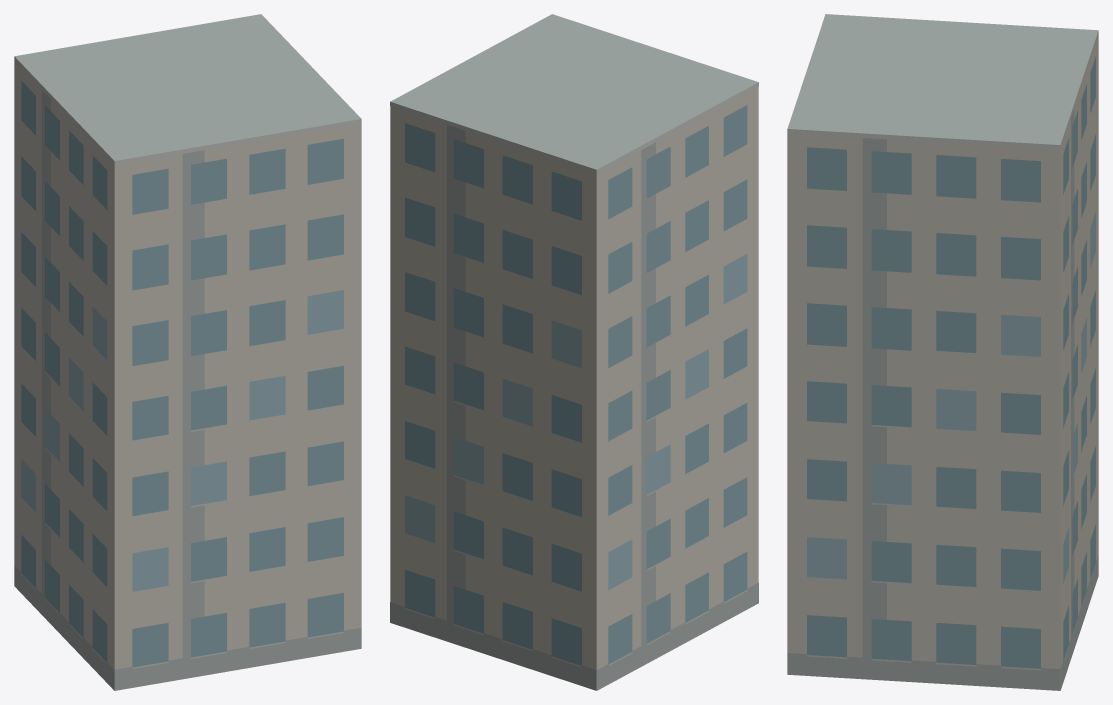
File: survey-upis-32668046.glb
The picture shows the model from 3 angles, left to right: view 1: azimuth 30°, elevation 25°; view 2: azimuth 150°, elevation 25°; view 3: azimuth 270°, elevation 25°; orthographic projection. The views are drawn at different scales.
Visible parts, largest first — view 1: survey-upis-32668046.tmp; view 2: survey-upis-32668046.tmp; view 3: survey-upis-32668046.tmp.
Part boxes in pixels (left/top/right/bottom): survey-upis-32668046.tmp: left=14, top=14, right=361, bottom=690; survey-upis-32668046.tmp: left=390, top=14, right=758, bottom=690; survey-upis-32668046.tmp: left=787, top=14, right=1098, bottom=690.
Bounding box in the file's own units: 14.9 × 28.9 × 14.94.
